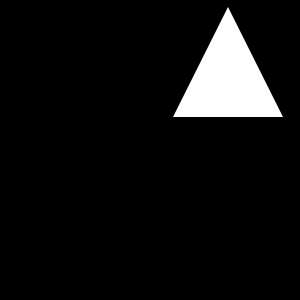triangle: (173, 7, 283, 117)
